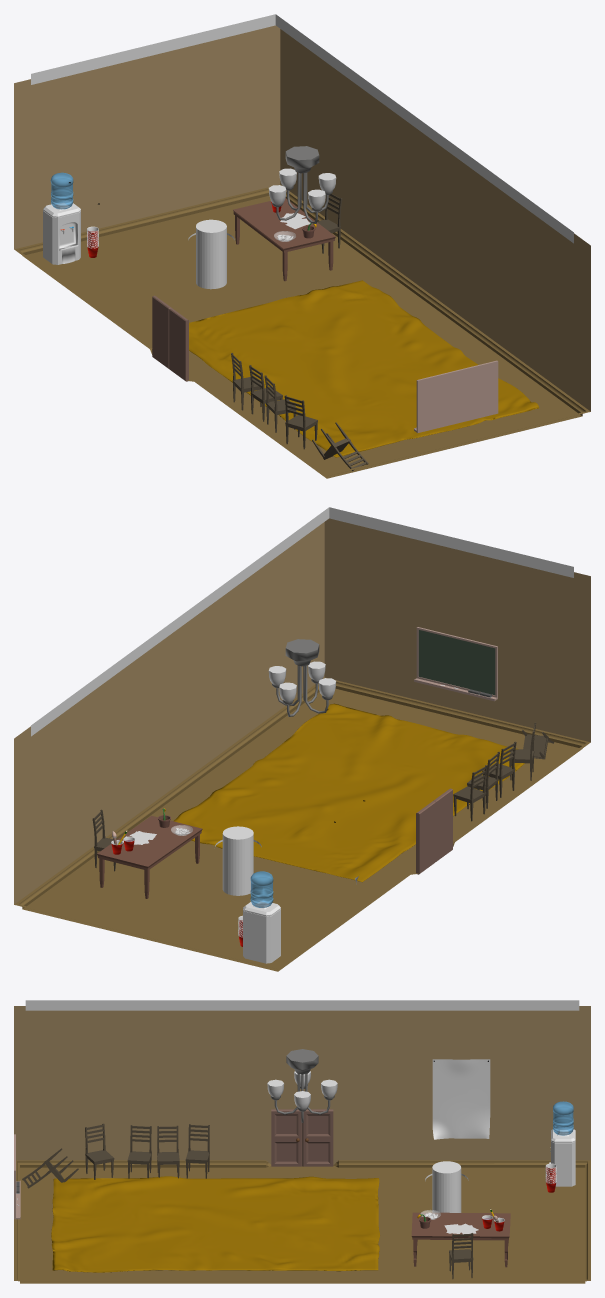
The model's file is artstoreinside.glb.
The picture shows the model from 3 angles, top to bottom: view 1: azimuth 30°, elevation 25°; view 2: azimuth 150°, elevation 25°; view 3: azimuth 270°, elevation 25°; orthographic projection. The views are drawn at different scales.
Visible parts, largest first — view 1: main-col, Plane, Blackboard_01_Cube.029, Cooler_Cylinder.004, desk-col, Light_Chandelier, doorright, Cylinder, chair-col.004, chair-col.003, chair-col.001, chair-col.002 (+1 smaller); view 2: main-col, Plane, Blackboard_01_Cube.029, desk-col, Cooler_Cylinder.004, Light_Chandelier, doorright, Cylinder, chair-col, chair-col.002; view 3: main-col, Plane, Plane.001, doorright, desk-col, Light_Chandelier, Cooler_Cylinder.004, Cylinder, chair-col.004, chair-col, chair-col.002, chair-col.001 (+2 smaller).
Boxes of the visible parts, left/top/right/bottom form: main-col: left=14, top=14, right=590, bottom=478; Plane: left=189, top=280, right=539, bottom=457; Blackboard_01_Cube.029: left=414, top=360, right=498, bottom=433; Cooler_Cylinder.004: left=43, top=172, right=80, bottom=264; desk-col: left=233, top=198, right=335, bottom=281; Light_Chandelier: left=268, top=146, right=336, bottom=223; doorright: left=152, top=295, right=188, bottom=381; Cylinder: left=188, top=219, right=234, bottom=289; chair-col.004: left=284, top=395, right=317, bottom=449; chair-col.003: left=312, top=422, right=368, bottom=470; chair-col.001: left=249, top=365, right=282, bottom=421; chair-col.002: left=264, top=375, right=296, bottom=432; main-col: left=14, top=507, right=590, bottom=971; Plane: left=173, top=703, right=524, bottom=882; Blackboard_01_Cube.029: left=414, top=627, right=497, bottom=701; desk-col: left=97, top=815, right=202, bottom=898; Cooler_Cylinder.004: left=243, top=871, right=280, bottom=963; Light_Chandelier: left=268, top=639, right=336, bottom=716; doorright: left=416, top=788, right=452, bottom=874; Cylinder: left=214, top=826, right=261, bottom=895; chair-col: left=453, top=765, right=487, bottom=821; chair-col.002: left=482, top=741, right=516, bottom=797; main-col: left=14, top=1000, right=590, bottom=1283; Plane: left=51, top=1176, right=379, bottom=1272; Plane.001: left=432, top=1059, right=490, bottom=1139; doorright: left=271, top=1109, right=333, bottom=1166; desk-col: left=411, top=1212, right=510, bottom=1267; Light_Chandelier: left=267, top=1049, right=337, bottom=1122; Cooler_Cylinder.004: left=549, top=1101, right=575, bottom=1186; Cylinder: left=425, top=1161, right=468, bottom=1212; chair-col.004: left=85, top=1123, right=114, bottom=1179; chair-col: left=185, top=1124, right=209, bottom=1178; chair-col.002: left=127, top=1125, right=151, bottom=1178; chair-col.001: left=157, top=1125, right=179, bottom=1178.
Size of what is drawn, in the model's own units: 9.92 by 6.53 by 20.
